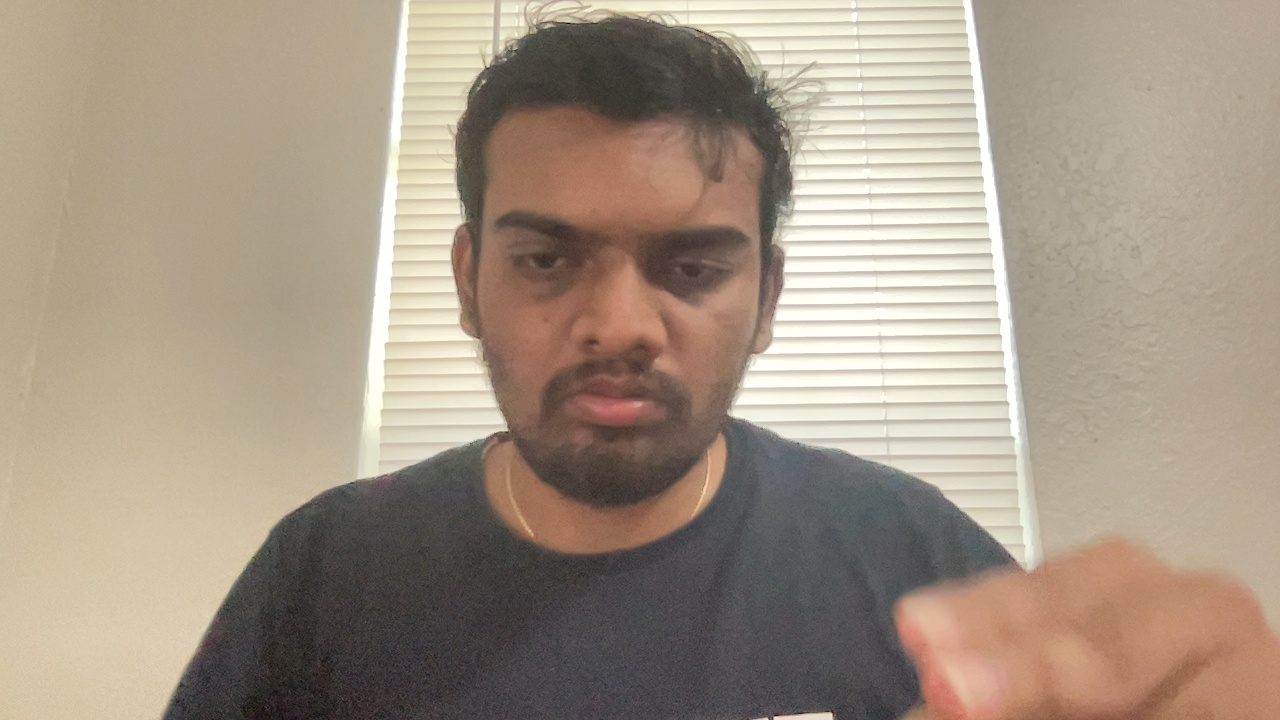no: (885, 531, 1280, 720)
